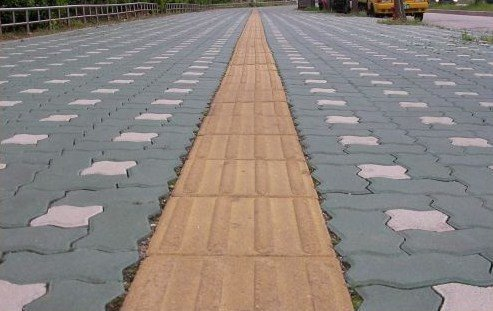guide_blocks: (133, 196, 346, 311), (169, 75, 314, 195), (227, 19, 278, 75), (249, 8, 260, 20)
